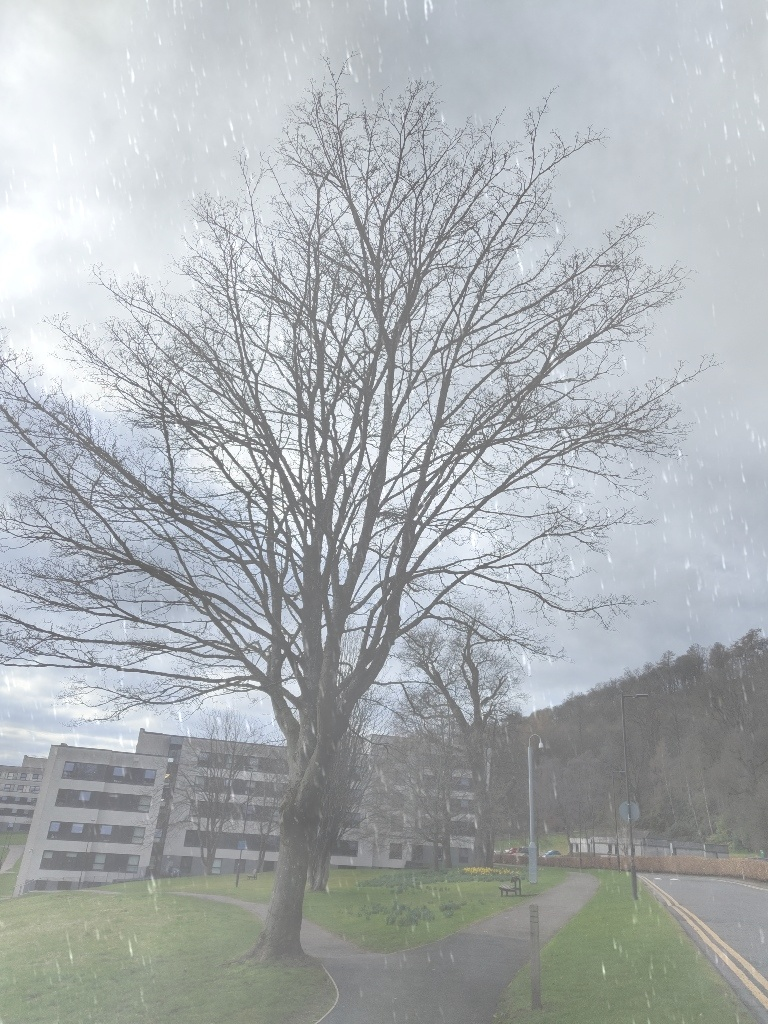Tree: (0, 48, 729, 971), (398, 601, 530, 870)
